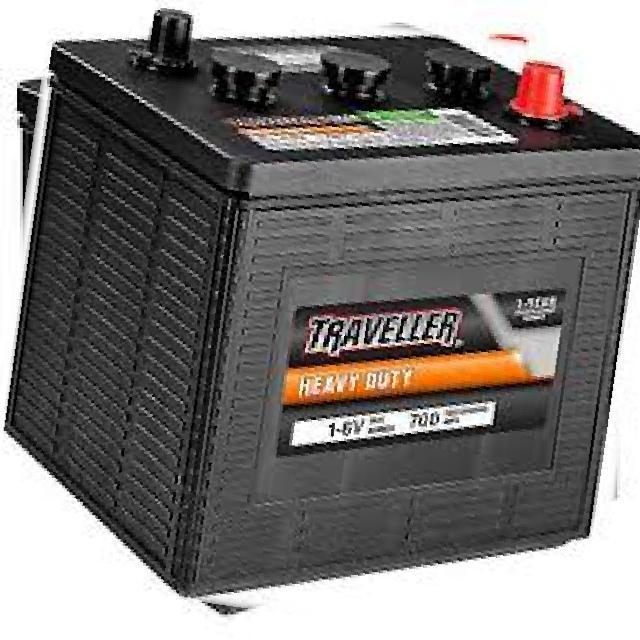Battery: (0, 2, 639, 604), (0, 5, 639, 597)
